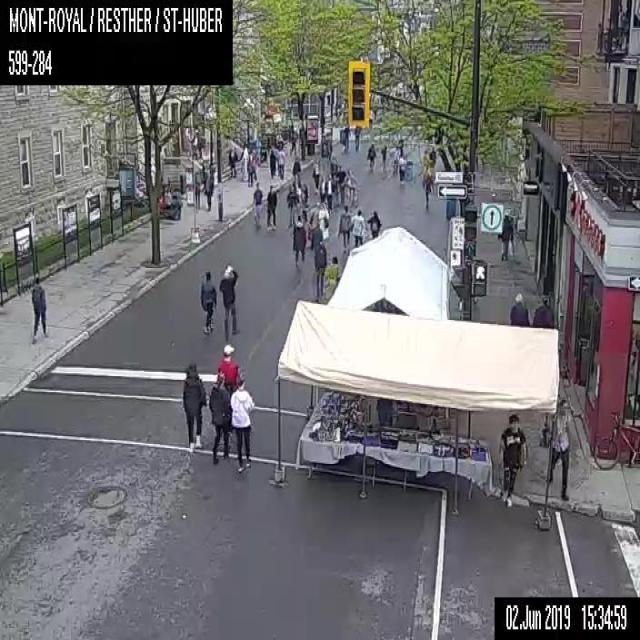pedestrian: (498, 413, 526, 507), (180, 362, 207, 454), (229, 374, 253, 471), (548, 398, 570, 501), (208, 372, 230, 461), (218, 264, 240, 342), (31, 276, 46, 343), (200, 270, 216, 332), (217, 344, 239, 389), (313, 236, 326, 298), (509, 292, 530, 327), (336, 203, 350, 255), (497, 212, 512, 260), (292, 215, 306, 266), (532, 295, 553, 328), (350, 208, 364, 247), (286, 184, 298, 228), (422, 166, 433, 210), (252, 180, 262, 227), (266, 183, 276, 230), (366, 209, 381, 238), (203, 169, 213, 211), (335, 164, 345, 203), (318, 201, 328, 238), (325, 172, 334, 212), (300, 183, 308, 221), (228, 145, 237, 176), (366, 142, 375, 170), (292, 156, 300, 187), (276, 148, 284, 179), (268, 148, 276, 178), (194, 170, 200, 209), (312, 158, 319, 191), (398, 155, 406, 183), (246, 154, 253, 185), (289, 127, 297, 154), (318, 174, 326, 201), (379, 144, 387, 170), (392, 145, 399, 174), (343, 124, 350, 150), (353, 124, 360, 150), (251, 151, 257, 180), (428, 146, 436, 164), (326, 138, 332, 160), (422, 149, 429, 165)
